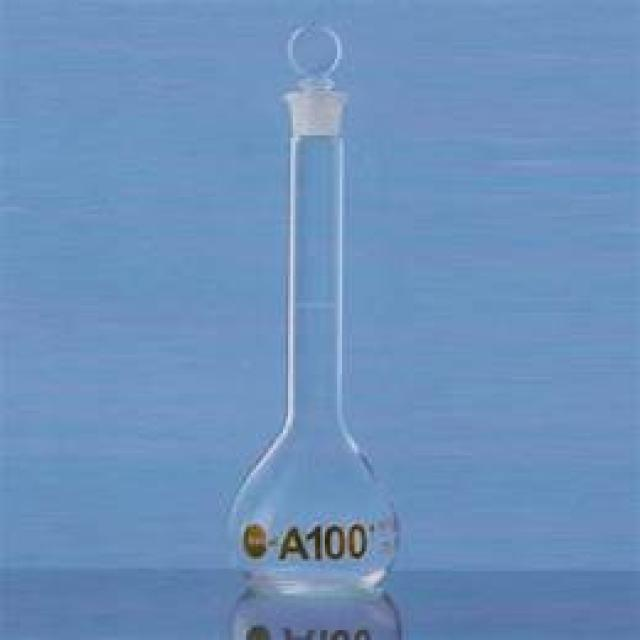Volumetric flask: (202, 32, 410, 599)
